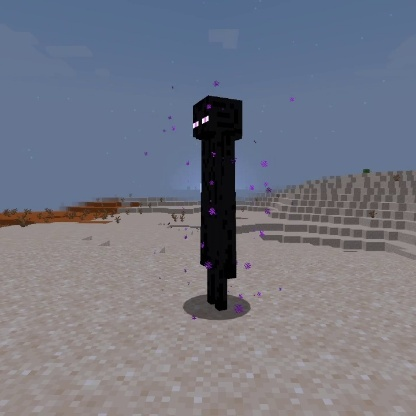enderman: (190, 93, 247, 315)
